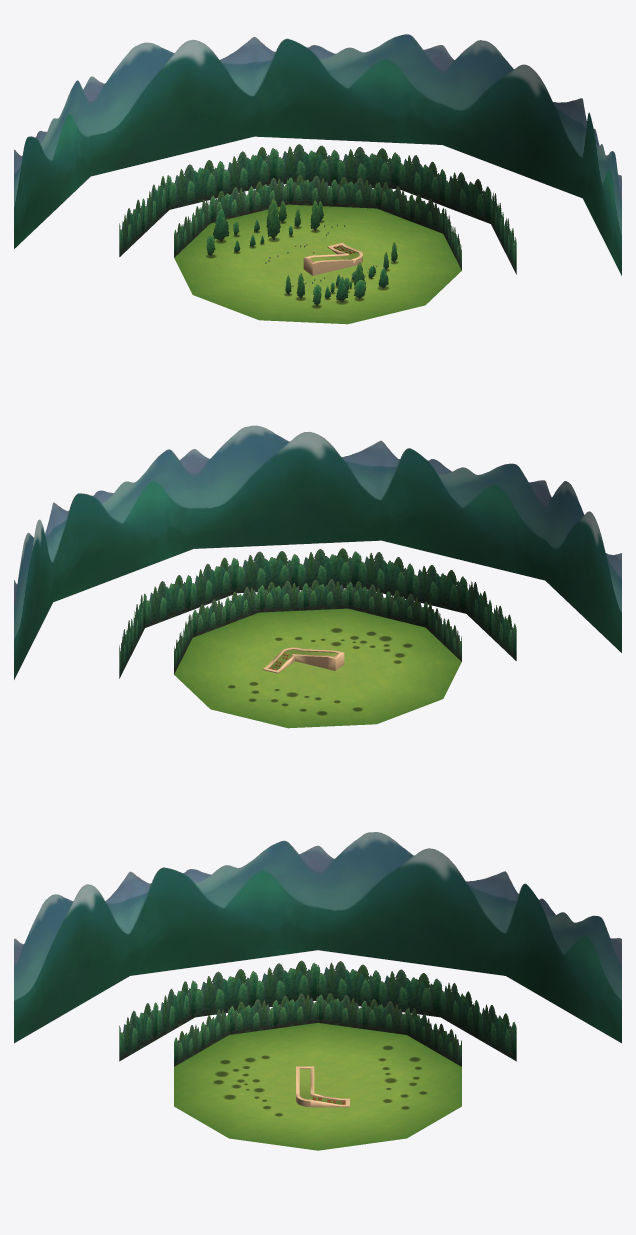
The model's file is hole18.glb.
3 renders of one model, top to bottom at view 1: azimuth 30°, elevation 25°; view 2: azimuth 150°, elevation 25°; view 3: azimuth 270°, elevation 25°, orthographic. The views are drawn at different scales.
Parts seen in each view (by area): view 1: background1, grass_base, background3, background2, edges1; view 2: background1, grass_base, background3, background2, edges1; view 3: background1, grass_base, background3, background2, edges1.
Part boxes in pixels (x1,y1,x2,y2): background1: [14, 34, 621, 275]; grass_base: [174, 204, 461, 324]; background3: [119, 144, 516, 274]; background2: [174, 175, 461, 270]; edges1: [303, 242, 362, 275]; background1: [14, 425, 621, 679]; grass_base: [174, 608, 461, 728]; background3: [119, 548, 516, 678]; background2: [174, 579, 461, 674]; edges1: [262, 647, 344, 673]; background1: [14, 832, 621, 1043]; grass_base: [174, 1023, 461, 1150]; background3: [119, 960, 516, 1061]; background2: [174, 993, 461, 1066]; edges1: [296, 1066, 349, 1107].
Size of what is drawn, in the model's own units: 347 by 78.81 by 330.
10 materials, 9 textured.
